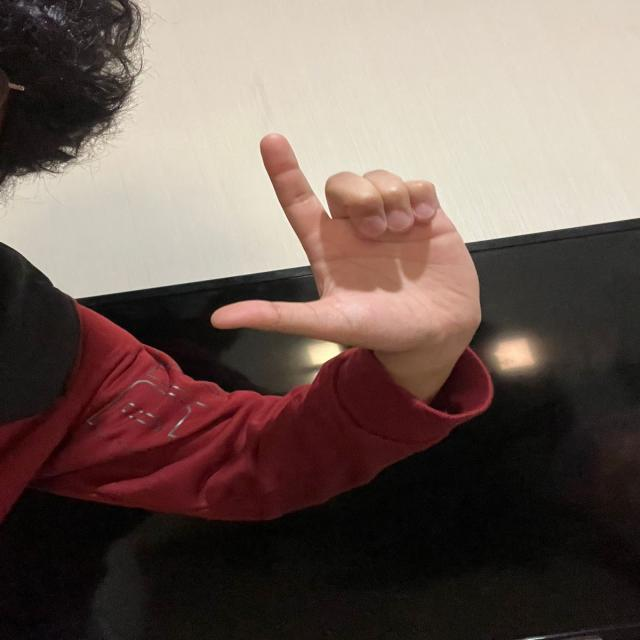L: (198, 129, 490, 358)
